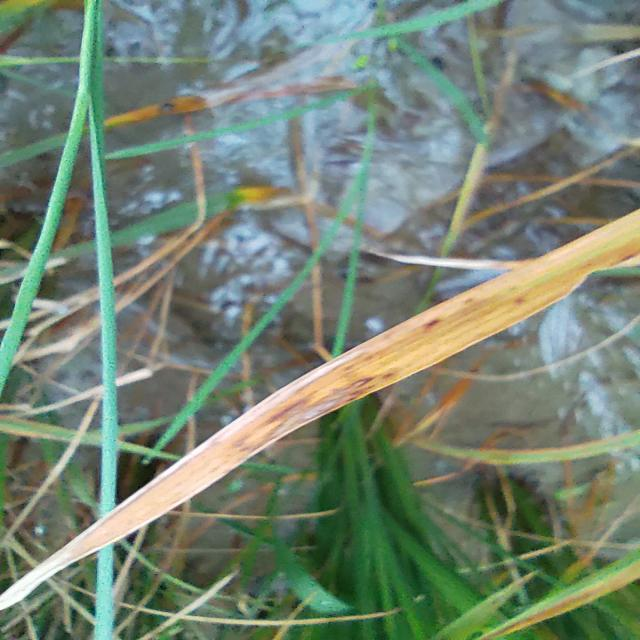Bacterial_Leaf_Blight: (0, 208, 639, 610)
